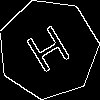H: (23, 24, 78, 82)
